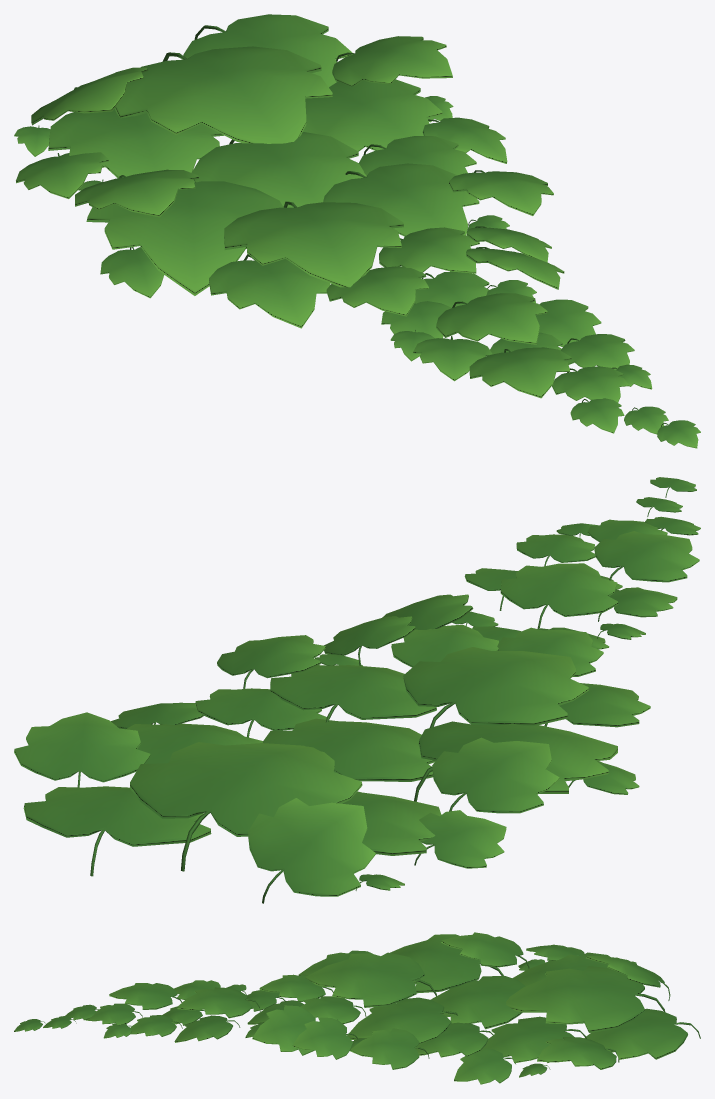
The model's file is ivygroup1.fbx.
3 views of the same model, one above another, from view 1: azimuth 30°, elevation 25°; view 2: azimuth 150°, elevation 25°; view 3: azimuth 270°, elevation 25° (orthographic). The views are drawn at different scales.
Visible parts, largest first — view 1: ivygroup1; view 2: ivygroup1; view 3: ivygroup1.
Boxes of the visible parts, <box> form: ivygroup1: <box>14,14,700,448</box>; ivygroup1: <box>14,477,700,903</box>; ivygroup1: <box>14,932,700,1084</box>.
Bounding box in the file's own units: 11.26 × 1.51 × 22.71.
